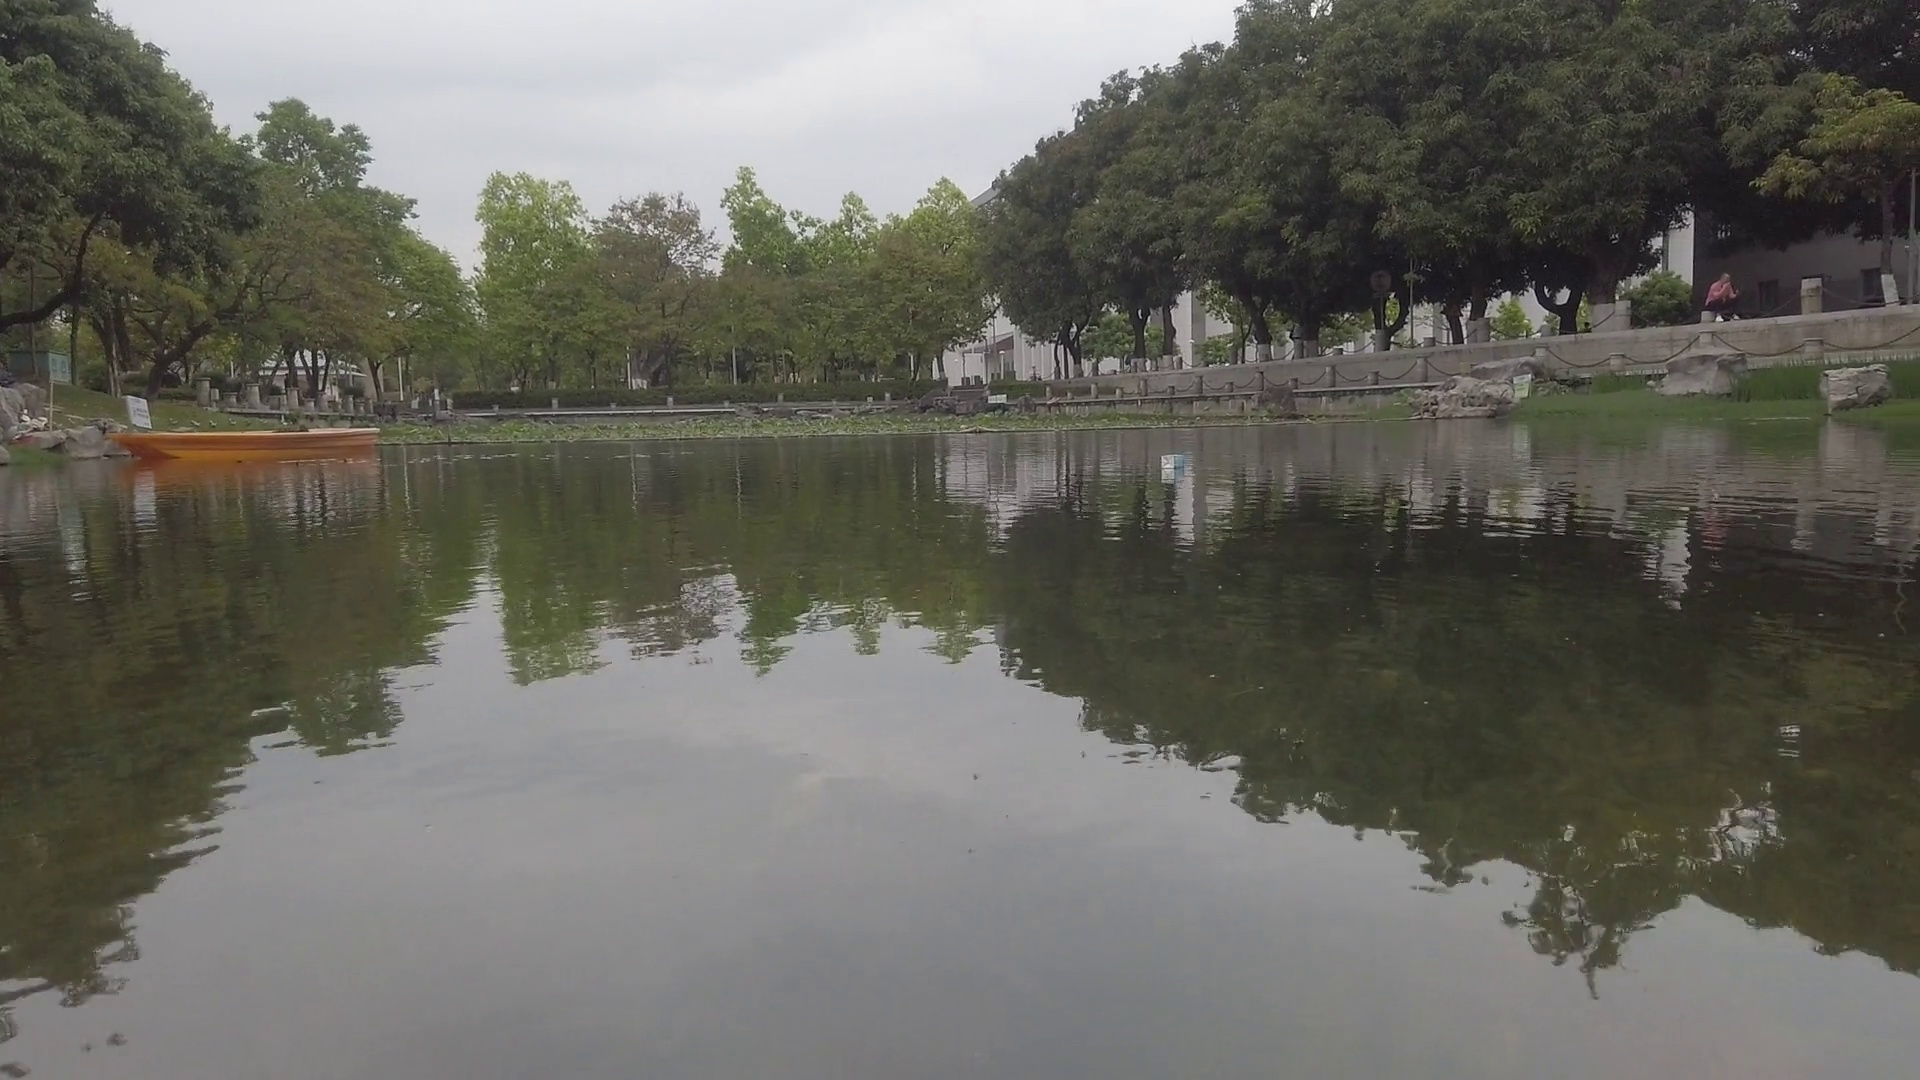carton: (1160, 454, 1191, 468)
